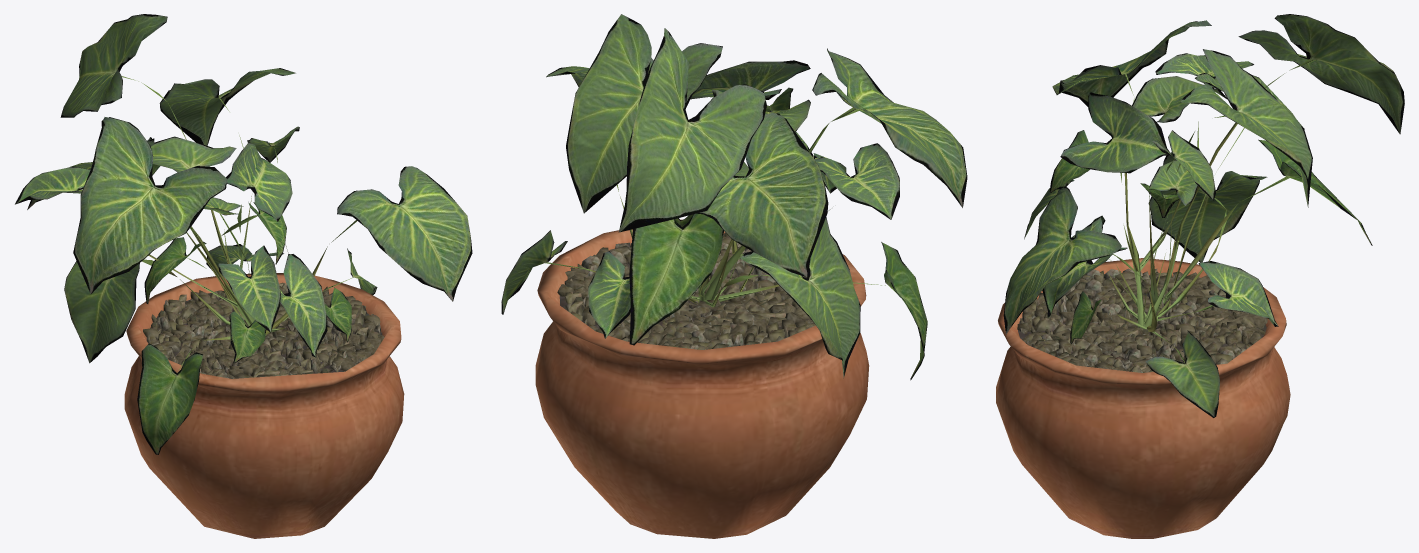
The model's file is potted_plant_02.glb.
The picture shows the model from 3 angles, left to right: view 1: azimuth 30°, elevation 25°; view 2: azimuth 150°, elevation 25°; view 3: azimuth 270°, elevation 25°; orthographic projection. The views are drawn at different scales.
Visible parts, largest first — view 1: potted_plant_02_leaves, potted_plant_02_pot, potted_plant_02_dirt; view 2: potted_plant_02_leaves, potted_plant_02_pot, potted_plant_02_dirt; view 3: potted_plant_02_leaves, potted_plant_02_pot, potted_plant_02_dirt.
Part boxes in pixels (left/top/right/bottom): potted_plant_02_leaves: left=15, top=14, right=472, bottom=454; potted_plant_02_pot: left=124, top=273, right=404, bottom=538; potted_plant_02_dirt: left=143, top=282, right=384, bottom=378; potted_plant_02_leaves: left=501, top=14, right=967, bottom=380; potted_plant_02_pot: left=535, top=219, right=869, bottom=538; potted_plant_02_dirt: left=557, top=232, right=815, bottom=349; potted_plant_02_leaves: left=1003, top=14, right=1404, bottom=417; potted_plant_02_pot: left=996, top=258, right=1290, bottom=538; potted_plant_02_dirt: left=1017, top=268, right=1267, bottom=372.
Size of the model in its own units: 0.7009 by 0.8397 by 0.6553.
Materials: 2 (2 with a texture image).
